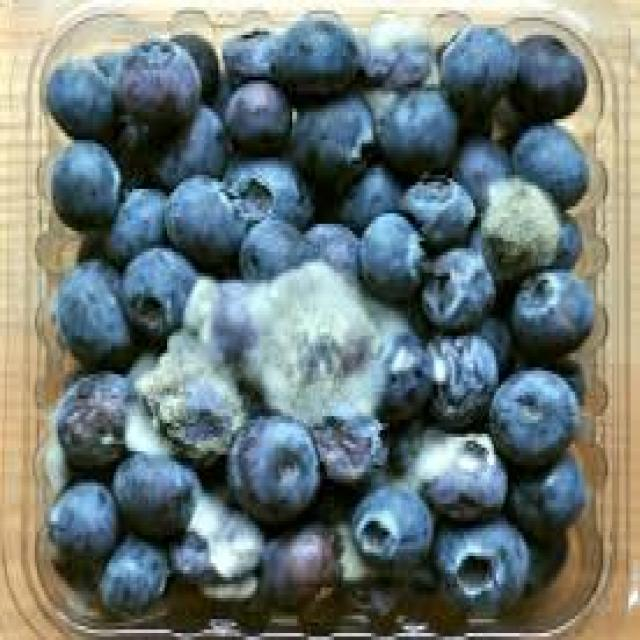organic waste: (246, 255, 376, 416), (135, 350, 241, 458), (164, 483, 260, 598), (225, 409, 318, 525), (484, 360, 578, 472), (431, 514, 529, 619), (411, 423, 504, 525), (327, 500, 408, 612), (109, 448, 197, 542), (506, 441, 582, 549), (290, 84, 371, 185), (54, 256, 132, 360), (46, 472, 130, 567), (476, 171, 554, 273), (112, 31, 200, 119), (160, 172, 246, 262), (92, 525, 172, 619), (271, 10, 355, 98), (348, 479, 431, 567), (227, 147, 318, 227), (508, 266, 594, 350), (142, 105, 228, 189), (376, 84, 459, 171), (436, 18, 515, 108), (260, 521, 338, 612), (118, 248, 195, 339), (418, 241, 497, 329), (508, 119, 584, 210), (508, 28, 584, 119), (41, 56, 120, 140), (51, 367, 123, 458), (422, 332, 496, 420), (49, 136, 118, 224), (399, 168, 475, 245), (150, 101, 222, 182), (360, 206, 424, 294), (308, 406, 381, 482), (376, 325, 436, 416), (359, 10, 432, 84), (100, 185, 167, 262), (218, 77, 290, 143), (334, 158, 401, 228), (236, 217, 308, 280), (450, 130, 505, 207), (306, 217, 360, 283), (512, 349, 580, 398), (457, 94, 519, 144), (172, 32, 216, 102), (526, 535, 570, 598), (381, 420, 432, 472), (220, 28, 274, 77), (357, 280, 415, 325), (111, 112, 151, 175), (552, 207, 582, 270), (478, 308, 508, 367), (213, 70, 230, 119), (95, 45, 118, 77)
